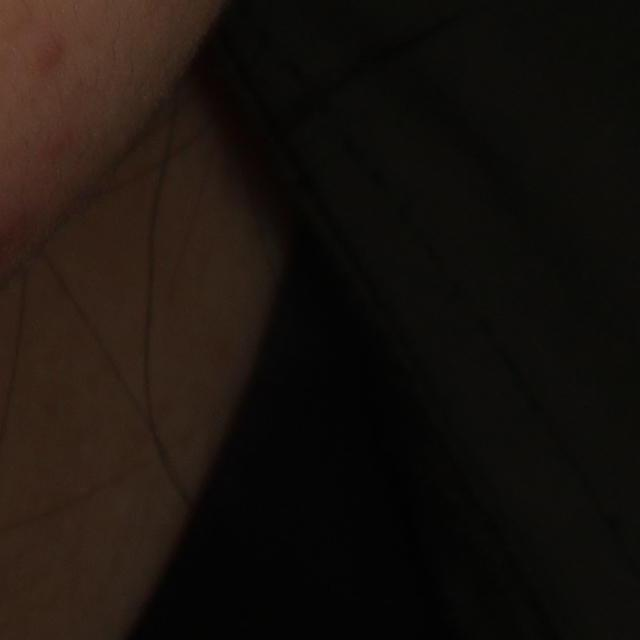papule: (33, 35, 63, 73)
